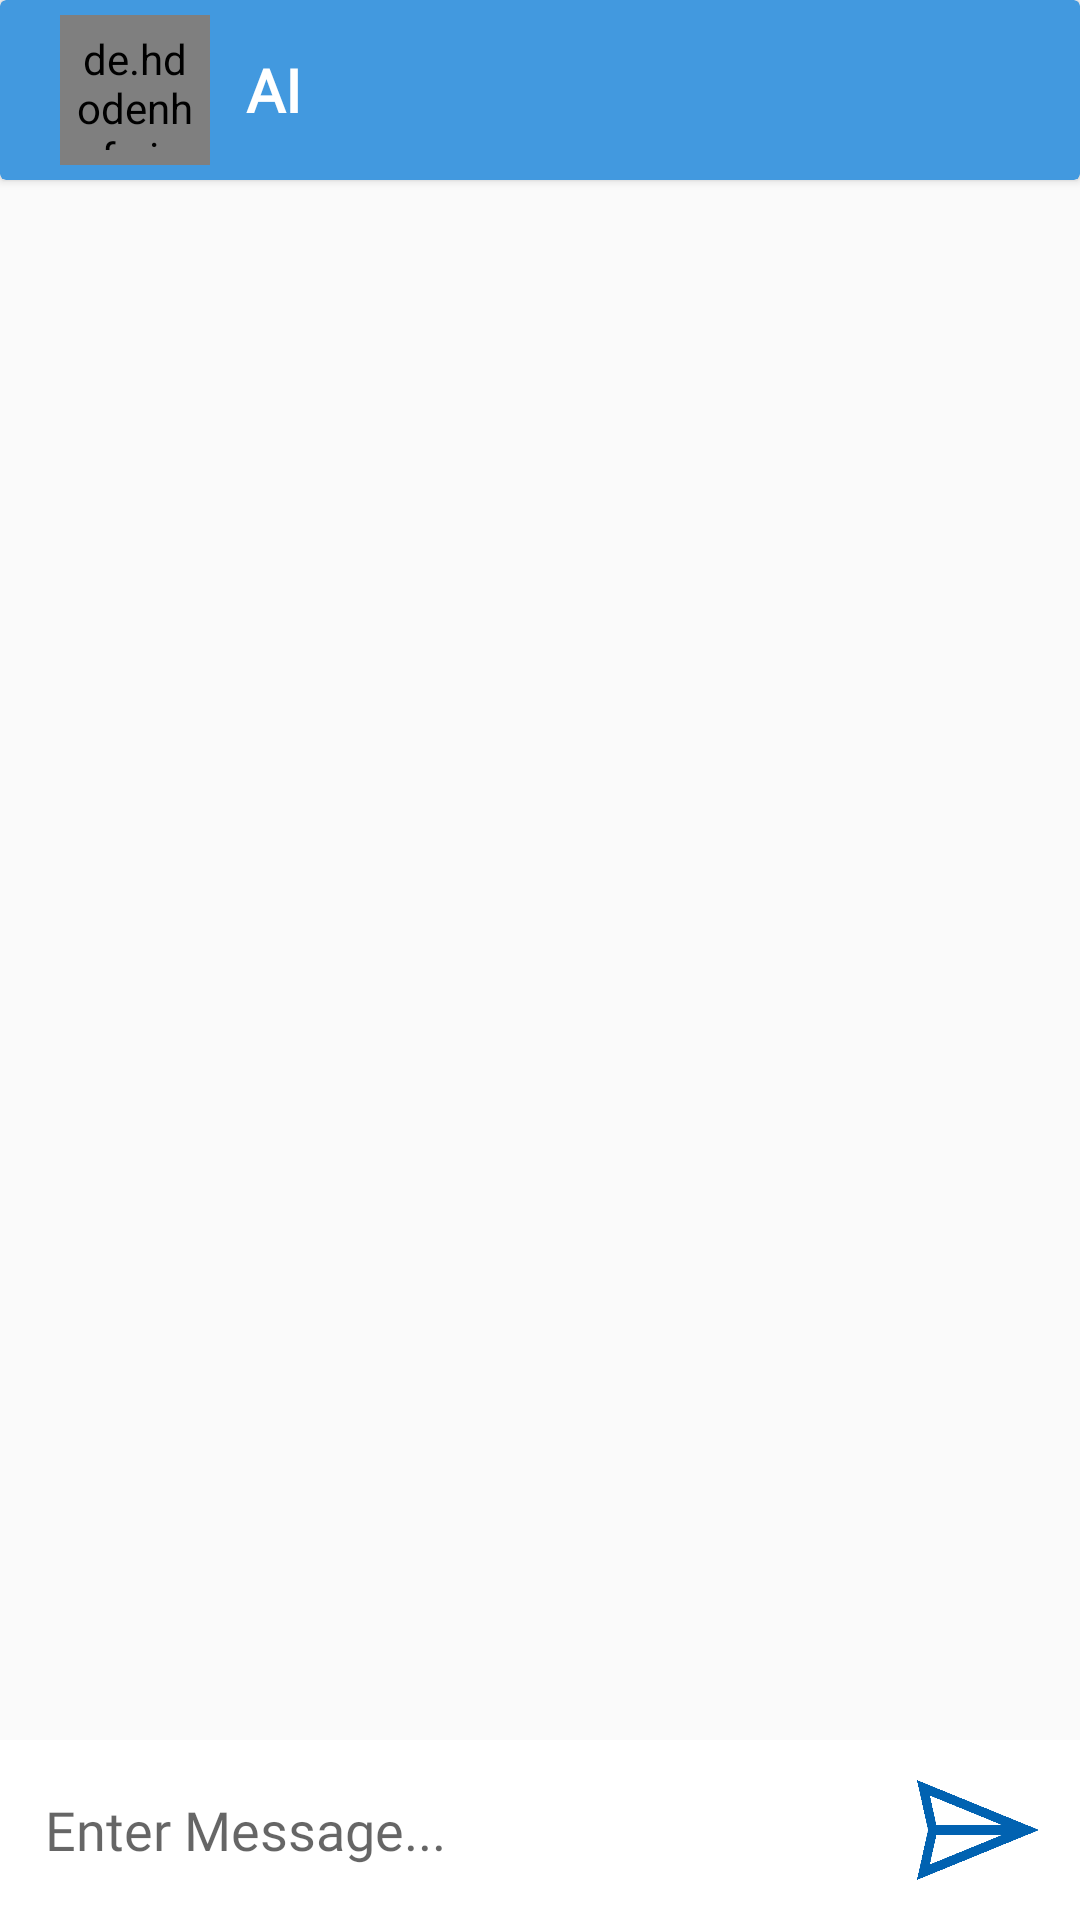

Named icons in this screenshot (1080*1920) and their centers, point (x, y):
sendbtn: point (977, 1830)
